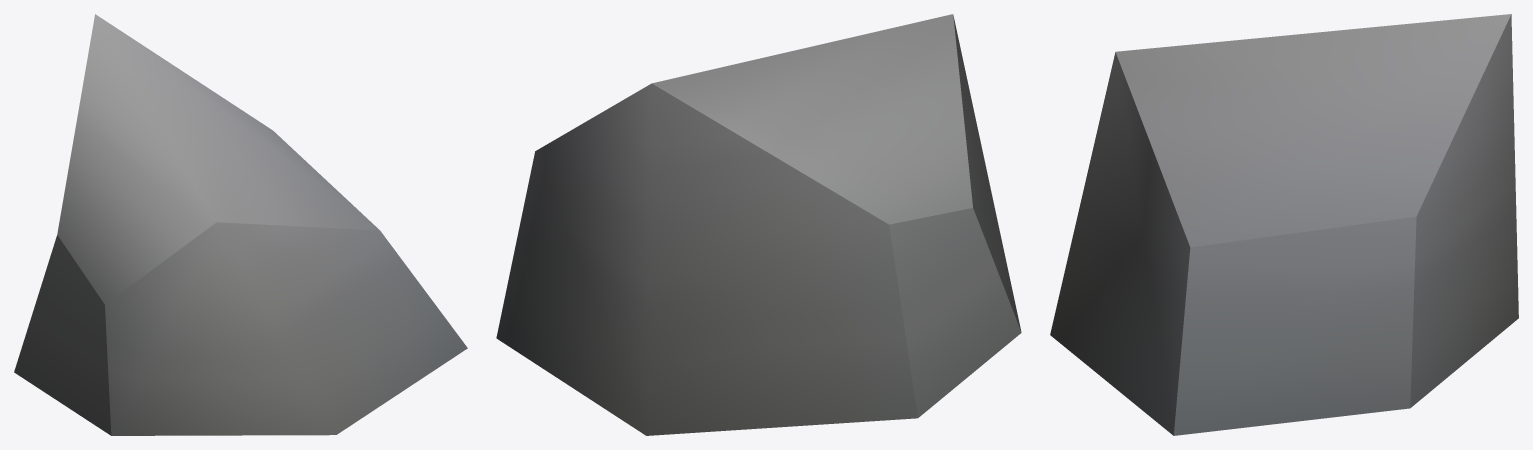
The picture shows the model from 3 angles, left to right: view 1: azimuth 30°, elevation 25°; view 2: azimuth 150°, elevation 25°; view 3: azimuth 270°, elevation 25°; orthographic projection. The views are drawn at different scales.
Parts seen in each view (by area): view 1: Rock002; view 2: Rock002; view 3: Rock002.
Boxes of the visible parts, x1,y1,x2,y2 form: Rock002: (14,14,467,435); Rock002: (496,14,1021,435); Rock002: (1050,14,1518,435).
Bounding box in the file's own units: 3.03 × 2.19 × 3.06.
1 material, 1 textured.
